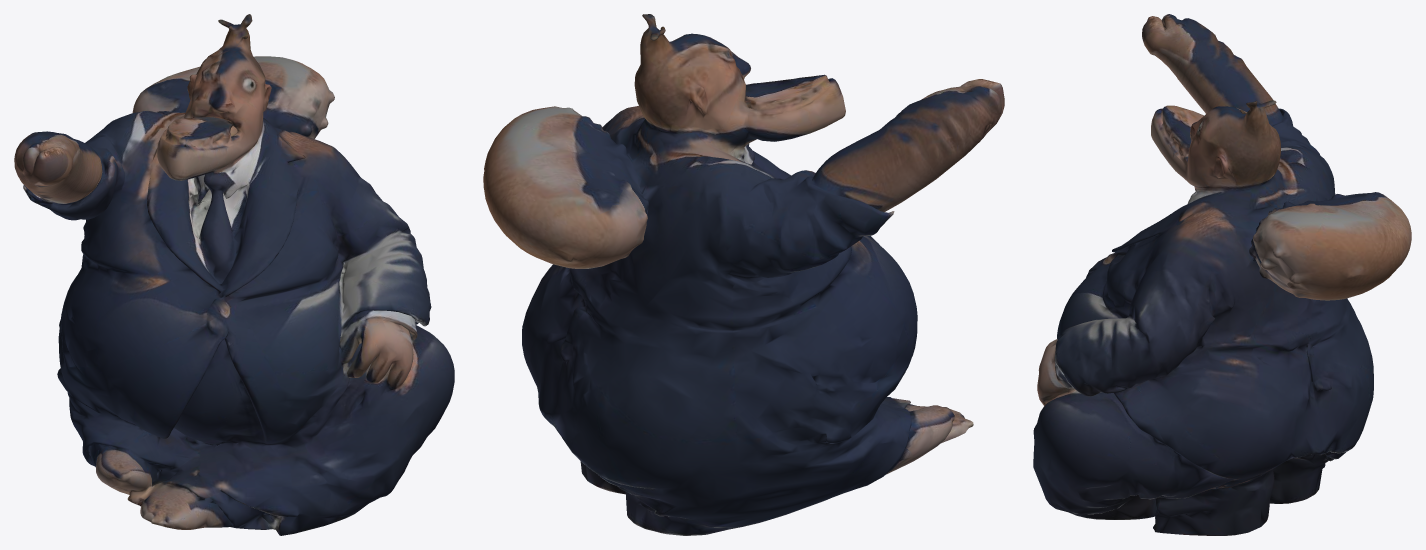
Rendered from beck.glb.
3 renders of one model, left to right at view 1: azimuth 30°, elevation 25°; view 2: azimuth 150°, elevation 25°; view 3: azimuth 270°, elevation 25°, orthographic. The views are drawn at different scales.
Parts seen in each view (by area): view 1: tripo_node_fa3e25ca-9565-4933-a505-30e39fea5e7e; view 2: tripo_node_fa3e25ca-9565-4933-a505-30e39fea5e7e; view 3: tripo_node_fa3e25ca-9565-4933-a505-30e39fea5e7e.
Part boxes in pixels (box(x1,y1,x2,y2)): tripo_node_fa3e25ca-9565-4933-a505-30e39fea5e7e: box(14, 14, 454, 535); tripo_node_fa3e25ca-9565-4933-a505-30e39fea5e7e: box(483, 14, 1004, 535); tripo_node_fa3e25ca-9565-4933-a505-30e39fea5e7e: box(1033, 14, 1411, 535).
Size of the model in its own units: 0.9544 by 0.9999 by 0.8492.
Materials: 1 (1 with a texture image).
